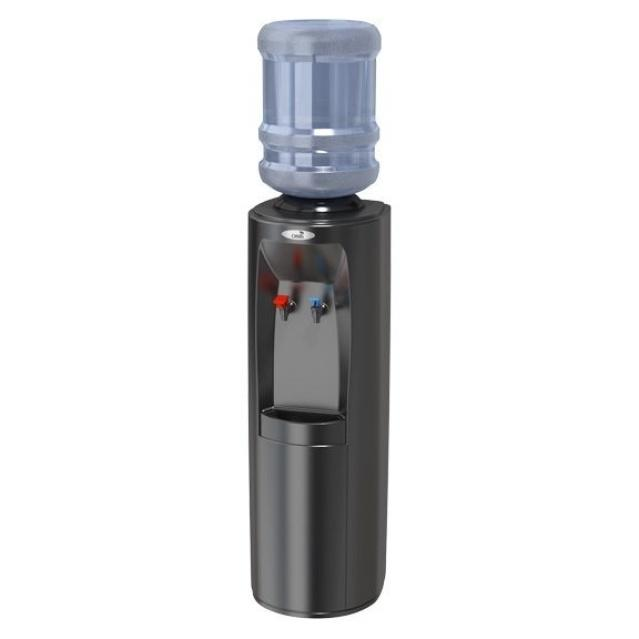Dispenser: (246, 19, 390, 618)
